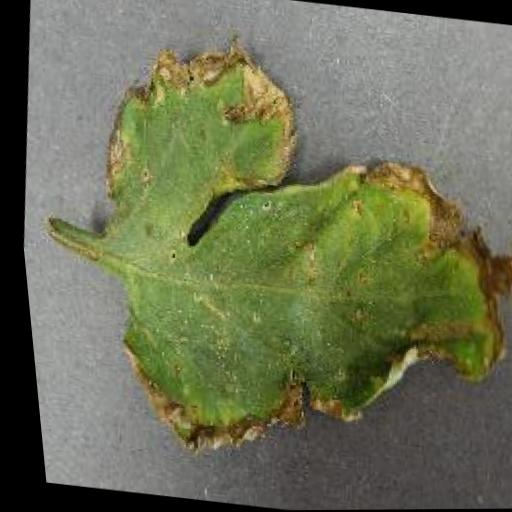Bacterial Spot: (1, 4, 512, 505)
